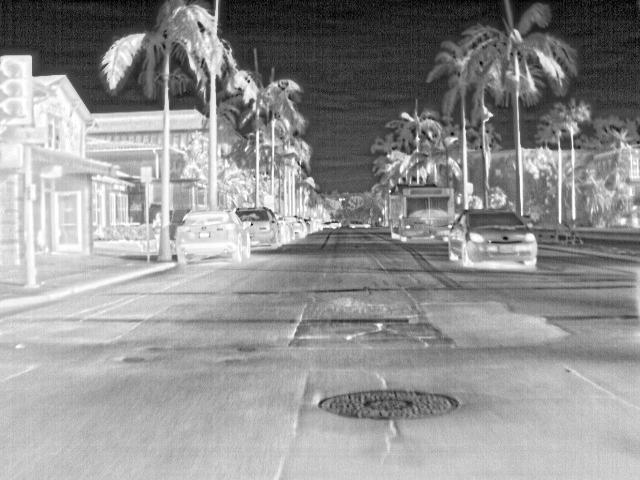car: (449, 207, 539, 270), (175, 208, 251, 264), (239, 207, 284, 250), (277, 213, 292, 244), (289, 216, 309, 235), (349, 218, 373, 230), (305, 218, 320, 232), (321, 219, 333, 230), (332, 220, 343, 229)
person: (153, 213, 162, 249)
